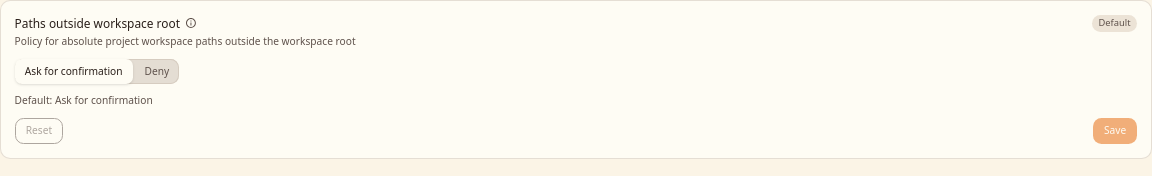
WorkspacePolicySection (ADR-075) › сохраняет выбранную политику через setWorkspacePolicy
Click the radio button labelled "Deny" at [157, 72], box [134, 59, 180, 84]
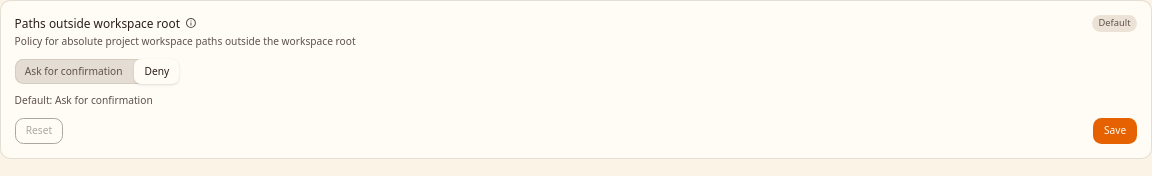
Click the button with test id "workspace-policy-save" at [1115, 131], box [1093, 118, 1137, 144]
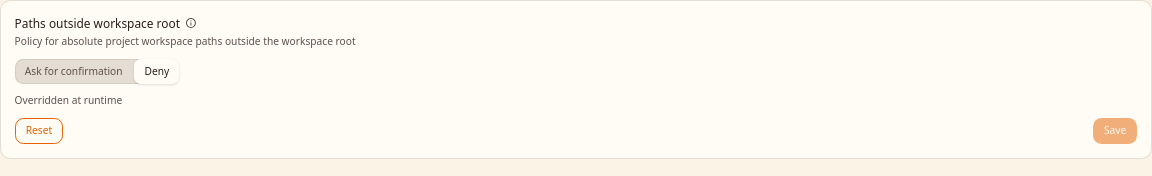
Result: the text with test id "workspace-policy-status" shows "Overridden" at [15, 94, 122, 108]
